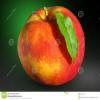Peach leaf: (53, 11, 79, 68)
